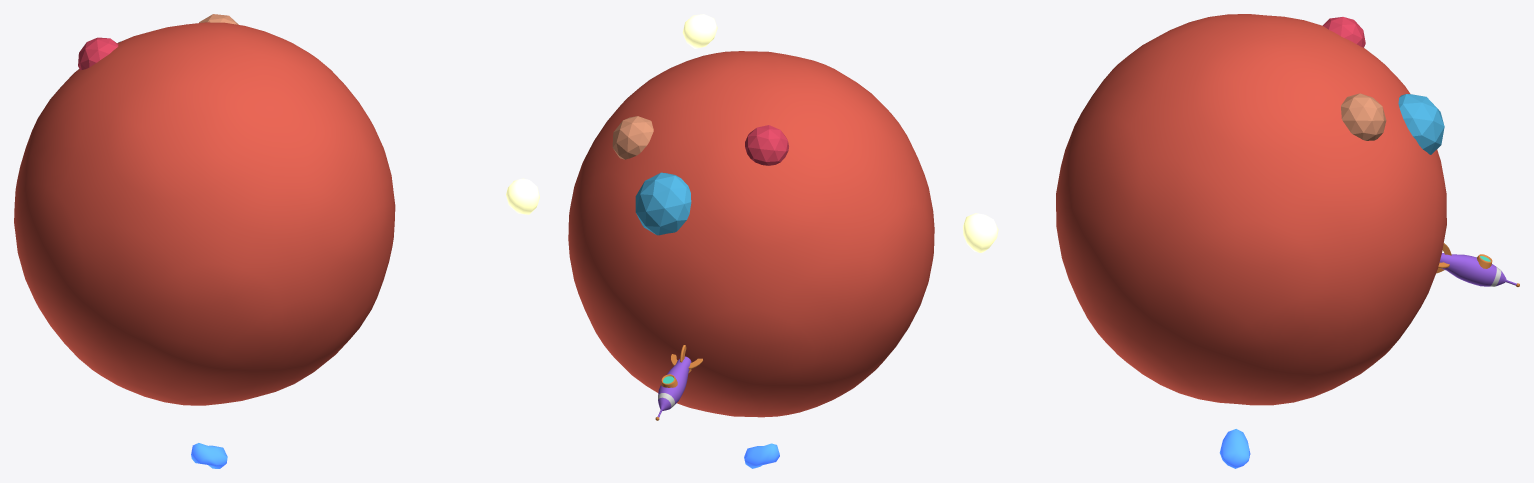
Rendered from mars.glb.
3 renders of one model, left to right at view 1: azimuth 30°, elevation 25°; view 2: azimuth 150°, elevation 25°; view 3: azimuth 270°, elevation 25°, orthographic. The views are drawn at different scales.
Parts seen in each view (by area): view 1: MarsSurface, Moon1, Icosphere.002, Icosphere.003; view 2: MarsSurface, Icosphere.001, Icosphere.002, Rocket, Icosphere, Moon1, Icosphere.003; view 3: MarsSurface, Icosphere.001, Rocket, Icosphere, Moon1, Icosphere.003, Icosphere.002.
Boxes of the visible parts, x1,y1,x2,y2 form: MarsSurface: [14, 22, 395, 405]; Moon1: [506, 178, 539, 214]; Icosphere.002: [78, 37, 118, 70]; Icosphere.003: [191, 443, 227, 468]; MarsSurface: [568, 51, 934, 417]; Icosphere.001: [635, 172, 691, 235]; Icosphere.002: [745, 125, 788, 165]; Rocket: [655, 345, 703, 420]; Icosphere: [612, 116, 653, 159]; Moon1: [682, 14, 717, 48]; Icosphere.003: [744, 443, 779, 468]; MarsSurface: [1056, 14, 1446, 405]; Icosphere.001: [1398, 94, 1444, 154]; Rocket: [1436, 243, 1519, 286]; Icosphere: [1341, 93, 1386, 140]; Moon1: [963, 213, 998, 252]; Icosphere.003: [1219, 429, 1250, 468]; Icosphere.002: [1322, 17, 1365, 47].
Bounding box in the file's own units: 6.85 × 7.5 × 8.75.
